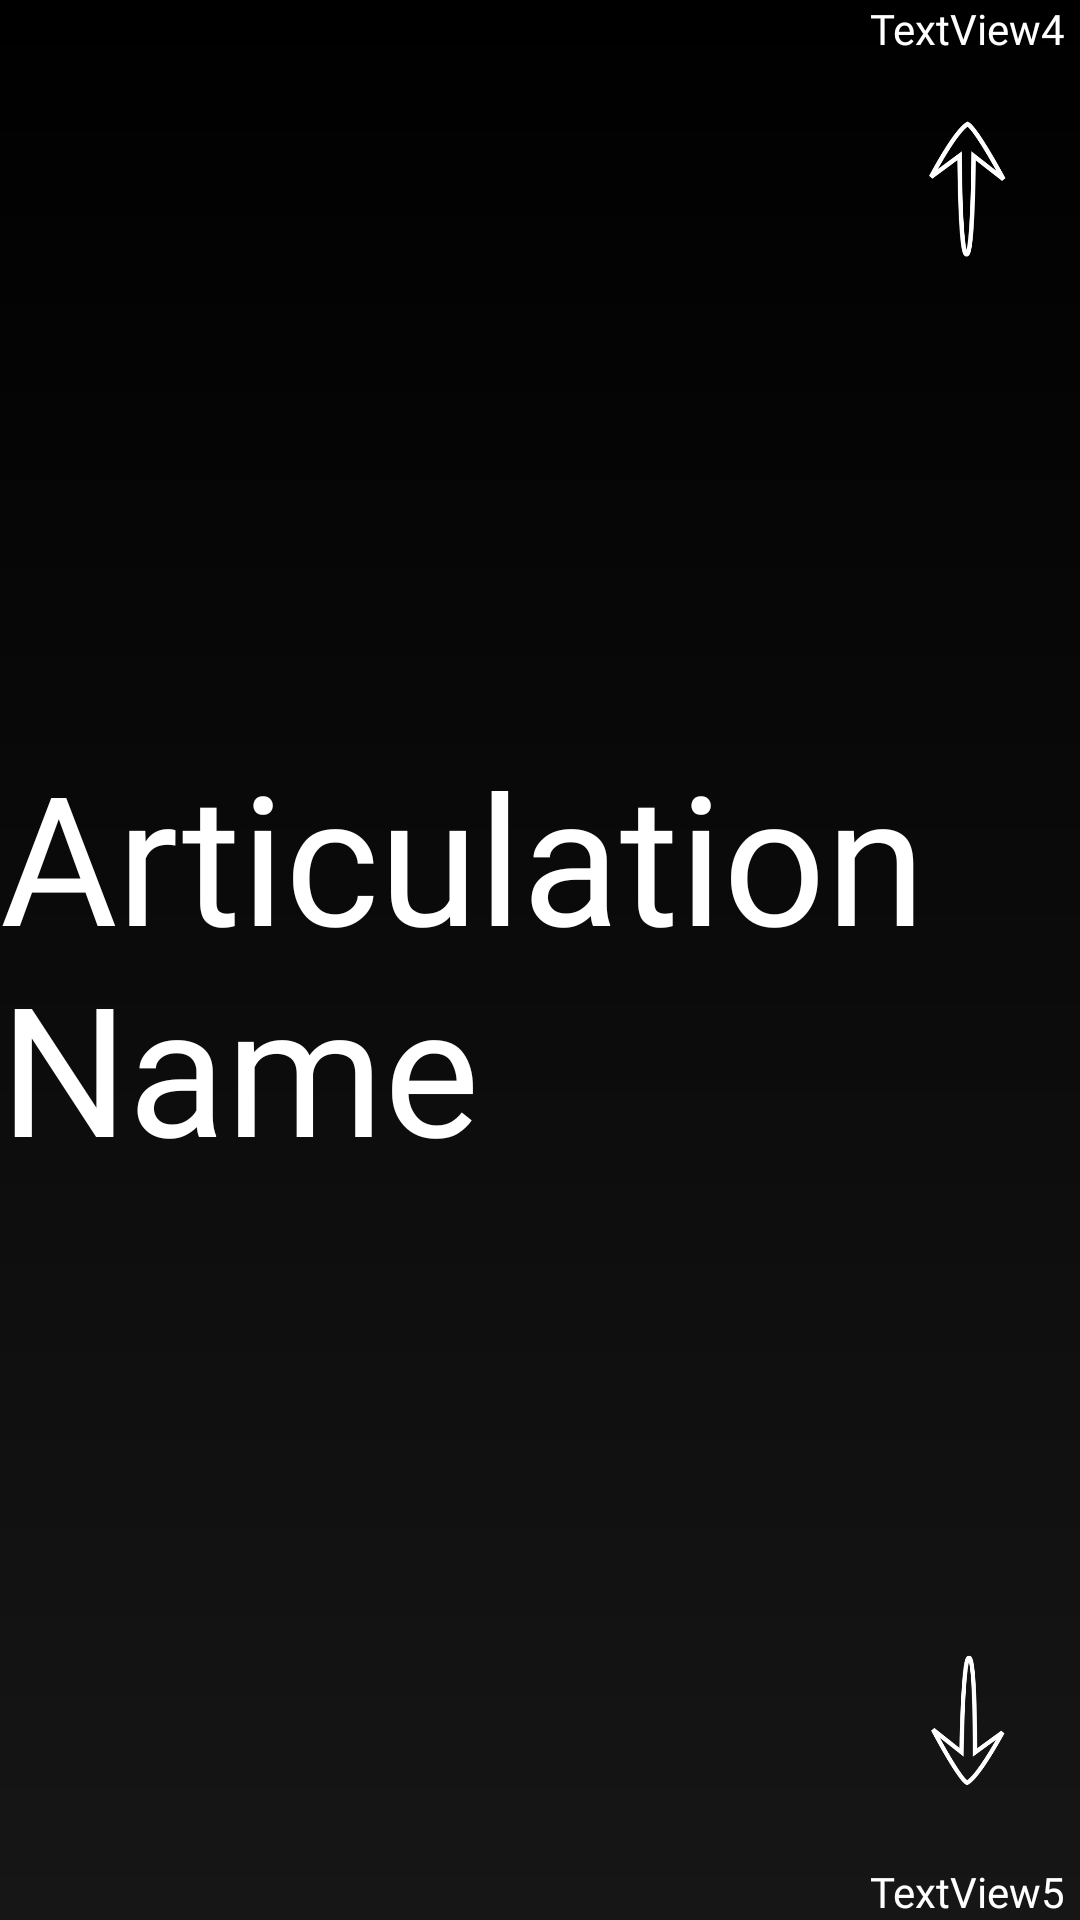

Where to tap for icons on this 1080*1920 app screen, as point (x, y):
down arrow: point (968, 1720)
up arrow: point (967, 189)
